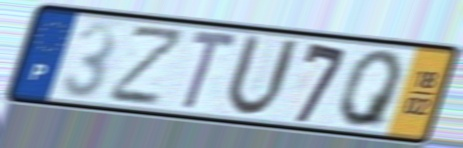3: (62, 19, 121, 101)
7: (292, 39, 349, 125)
Q: (337, 48, 406, 131)
T: (178, 26, 242, 113)
U: (221, 30, 303, 120)
Z: (106, 25, 190, 108)
